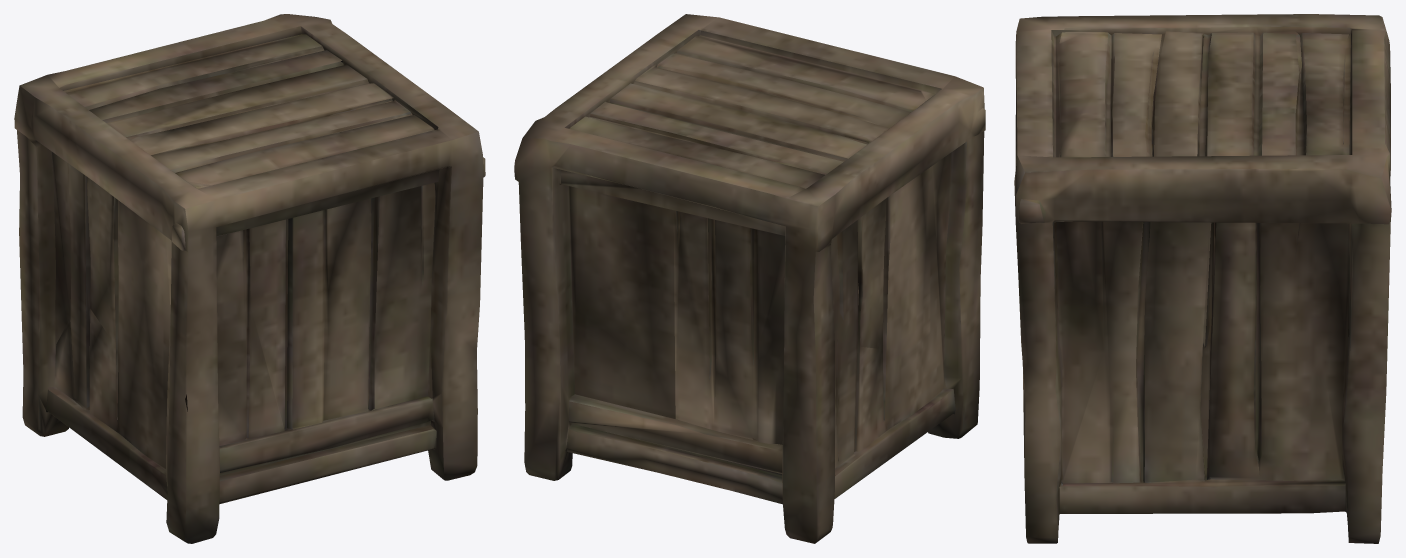
The model's file is wooden-crate-v001.glb.
The picture shows the model from 3 angles, left to right: view 1: azimuth 30°, elevation 25°; view 2: azimuth 150°, elevation 25°; view 3: azimuth 270°, elevation 25°; orthographic projection. The views are drawn at different scales.
Parts seen in each view (by area): view 1: wooden-crate; view 2: wooden-crate; view 3: wooden-crate.
Part boxes in pixels (x1,y1,x2,y2): wooden-crate: [14, 14, 485, 543]; wooden-crate: [514, 14, 985, 543]; wooden-crate: [1014, 14, 1391, 543].
Size of the model in its own units: 0.7306 by 0.795 by 0.7189.
1 material, 1 textured.
